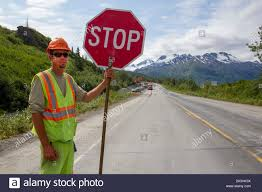stop: (77, 3, 151, 77)
